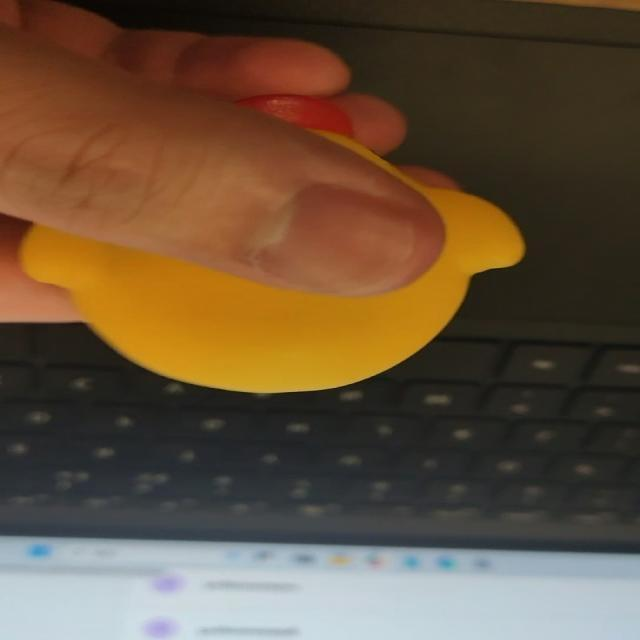rubber-duck: (18, 132, 522, 391)
